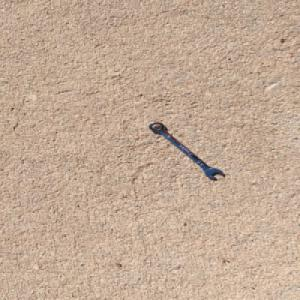Wrench: (147, 121, 227, 180)
